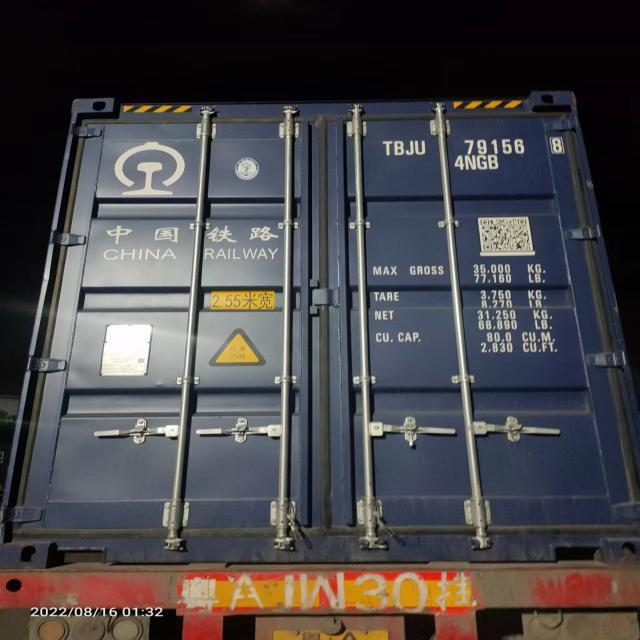ISO: (454, 159, 502, 173)
container_number: (381, 133, 568, 156)
